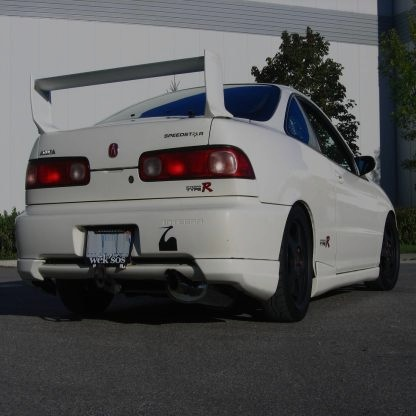Vehicle: (13, 46, 401, 322)
